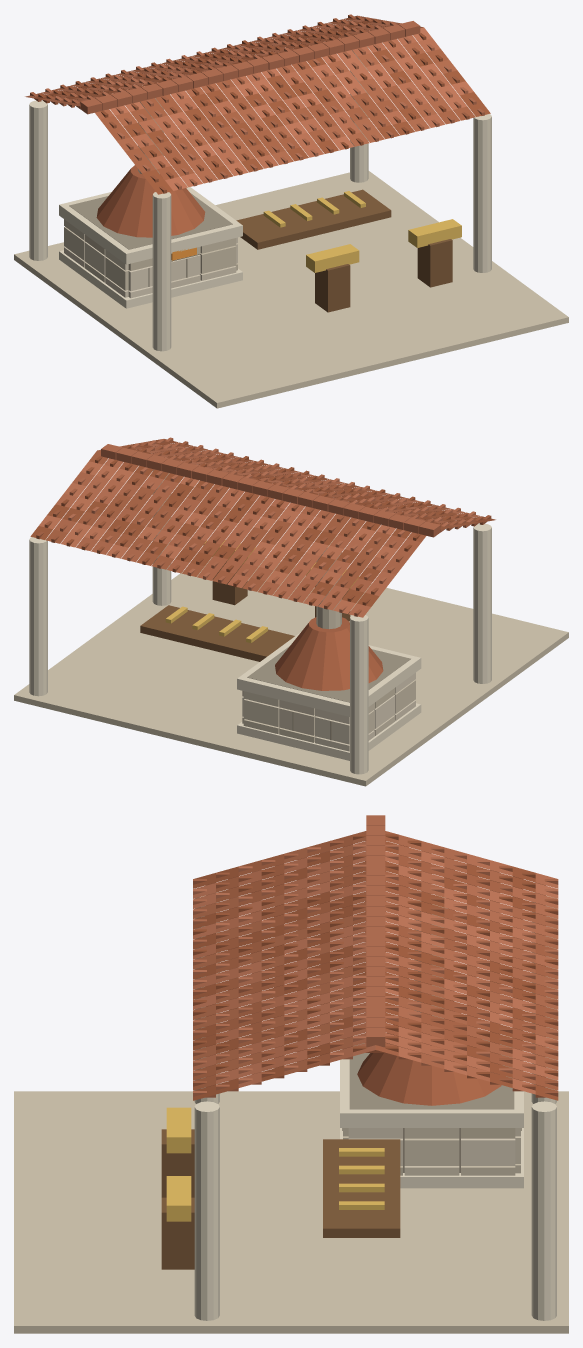
3 renders of one model, top to bottom at view 1: azimuth 30°, elevation 25°; view 2: azimuth 150°, elevation 25°; view 3: azimuth 270°, elevation 25°, orthographic. The views are drawn at different scales.
Parts seen in each view (by area): view 1: Bergfried – Steine, Säulen, Ziegel und Feuerstelle; view 2: Bergfried – Steine, Säulen, Ziegel und Feuerstelle; view 3: Bergfried – Steine, Säulen, Ziegel und Feuerstelle.
Part boxes in pixels (x1,y1,x2,y2): Bergfried – Steine, Säulen, Ziegel und Feuerstelle: (14, 14, 568, 408); Bergfried – Steine, Säulen, Ziegel und Feuerstelle: (14, 437, 568, 786); Bergfried – Steine, Säulen, Ziegel und Feuerstelle: (14, 815, 568, 1333).
Bounding box in the file's own units: 792 × 445 × 790.
